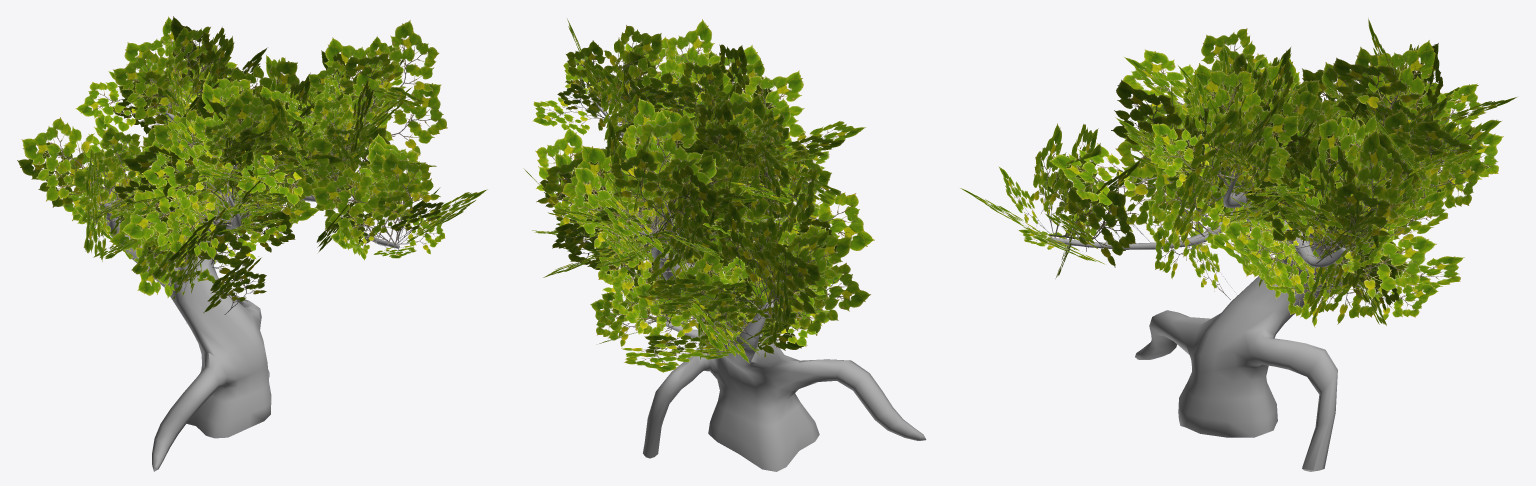
Rendered from Mesh_Tree_01.fbx.
The picture shows the model from 3 angles, left to right: view 1: azimuth 30°, elevation 25°; view 2: azimuth 150°, elevation 25°; view 3: azimuth 270°, elevation 25°; orthographic projection. The views are drawn at different scales.
Visible parts, largest first — view 1: mesh_Tree; view 2: mesh_Tree; view 3: mesh_Tree.
Part boxes in pixels (x1,y1,x2,y2): mesh_Tree: (17,16,487,471); mesh_Tree: (523,18,926,471); mesh_Tree: (960,18,1516,471).
Bounding box in the file's own units: 12.37 × 12.58 × 14.85.
